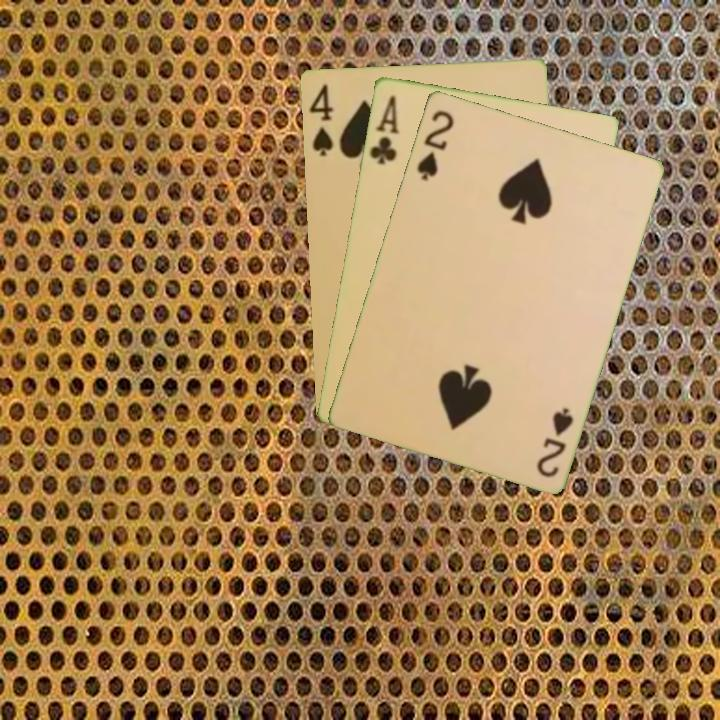2s: (413, 106, 457, 183), (533, 403, 576, 480)
4s: (305, 80, 336, 158)
Ac: (366, 91, 402, 167)
